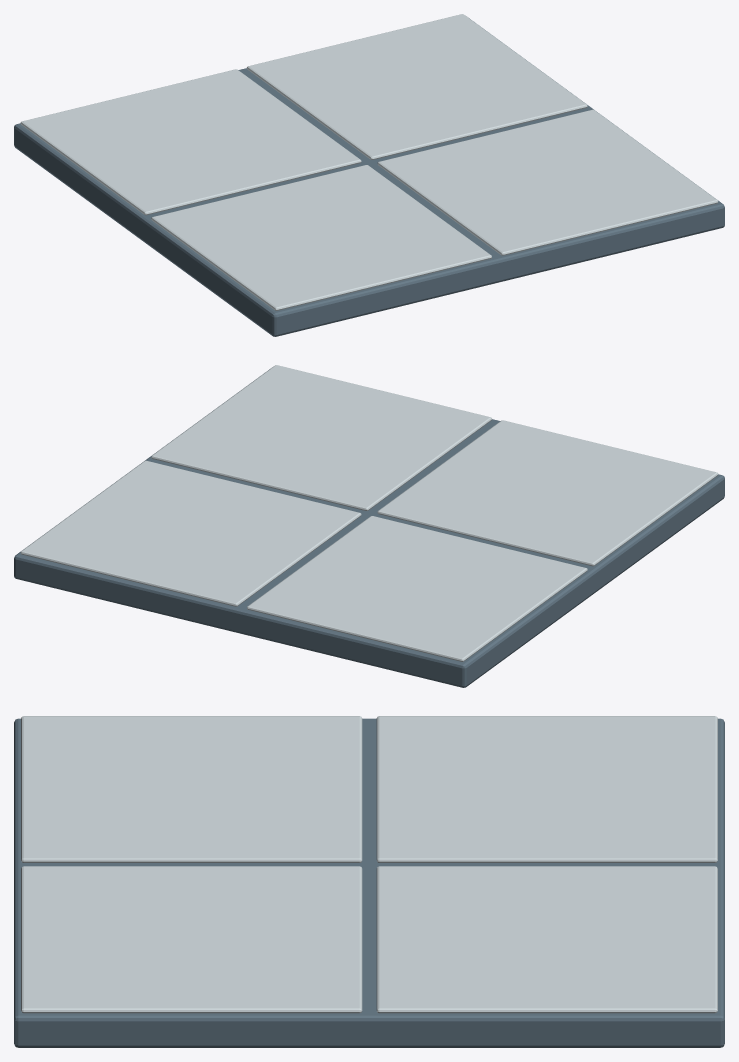
File: CL_Floor_4x4.fbx
3 renders of one model, top to bottom at view 1: azimuth 30°, elevation 25°; view 2: azimuth 150°, elevation 25°; view 3: azimuth 270°, elevation 25°, orthographic. The views are drawn at different scales.
Parts seen in each view (by area): view 1: FloorInset.002, FloorInset.001, FloorInset, FloorInset.003, Floor; view 2: FloorInset.003, FloorInset, FloorInset.001, FloorInset.002, Floor; view 3: FloorInset.002, FloorInset.003, FloorInset, FloorInset.001, Floor.
Part boxes in pixels (box(x1,y1,x2,y2)): FloorInset.002: box(377, 109, 718, 255); FloorInset.001: box(20, 69, 361, 215); FloorInset: box(151, 165, 491, 310); FloorInset.003: box(247, 14, 587, 159); Floor: box(14, 17, 724, 336); FloorInset.003: box(20, 460, 361, 606); FloorInset: box(377, 420, 718, 566); FloorInset.001: box(247, 516, 587, 661); FloorInset.002: box(151, 365, 491, 510); Floor: box(14, 368, 724, 687); FloorInset.002: box(21, 866, 362, 1013); FloorInset.003: box(376, 866, 717, 1013); FloorInset: box(21, 716, 362, 862); FloorInset.001: box(376, 716, 717, 862); Floor: box(14, 718, 724, 1047).
Size of the model in its own units: 4 by 0.23 by 4.
